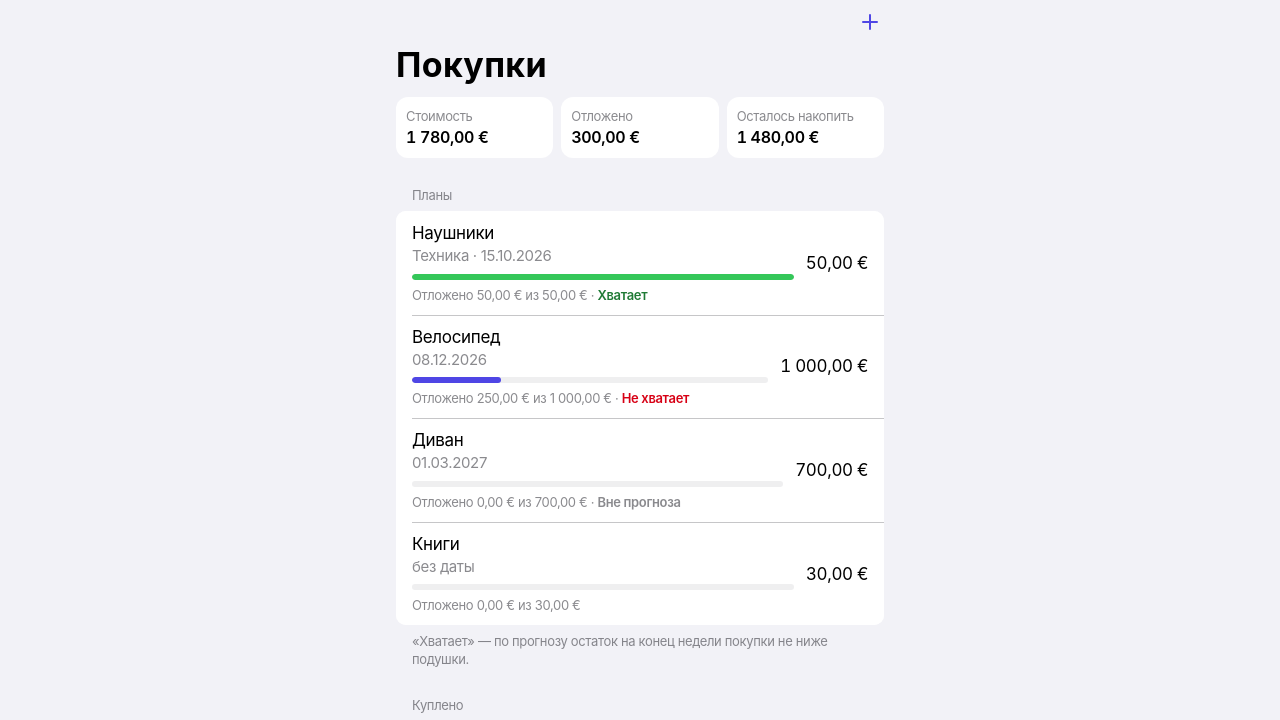
it: PurchaseForm › keeps a priority typed in the tracker that is not in the list
Click the button that starts with "Наушники": click(453, 233) top-left (396, 211), bottom-right (884, 315)
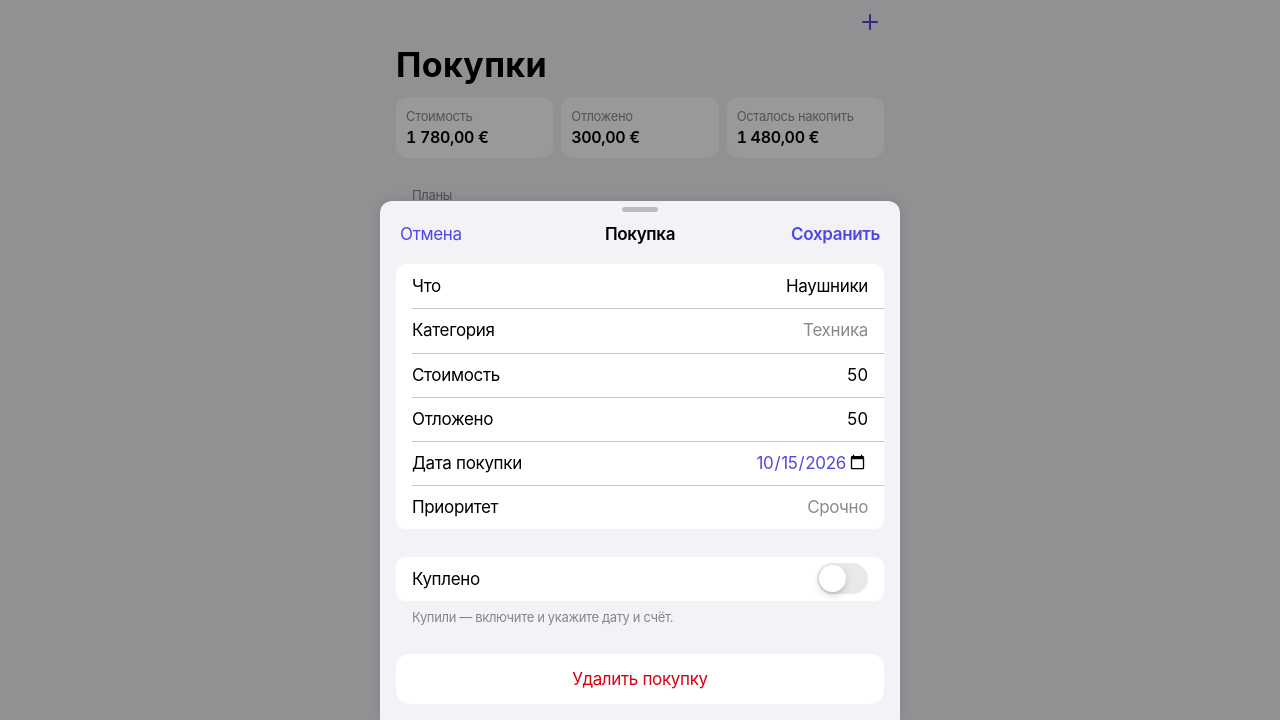
Check: the dropdown labelled "Приоритет" shows "Срочно", box top-left (510, 485), bottom-right (868, 529)
